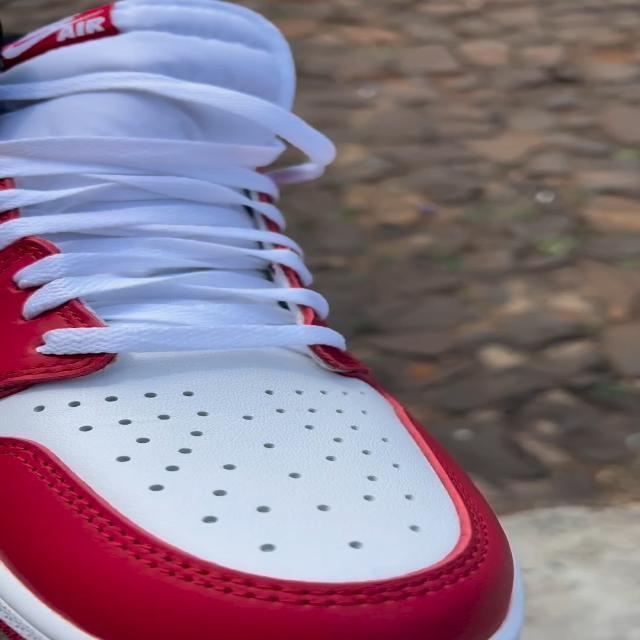nike original jordan 1: (0, 29, 523, 640)
